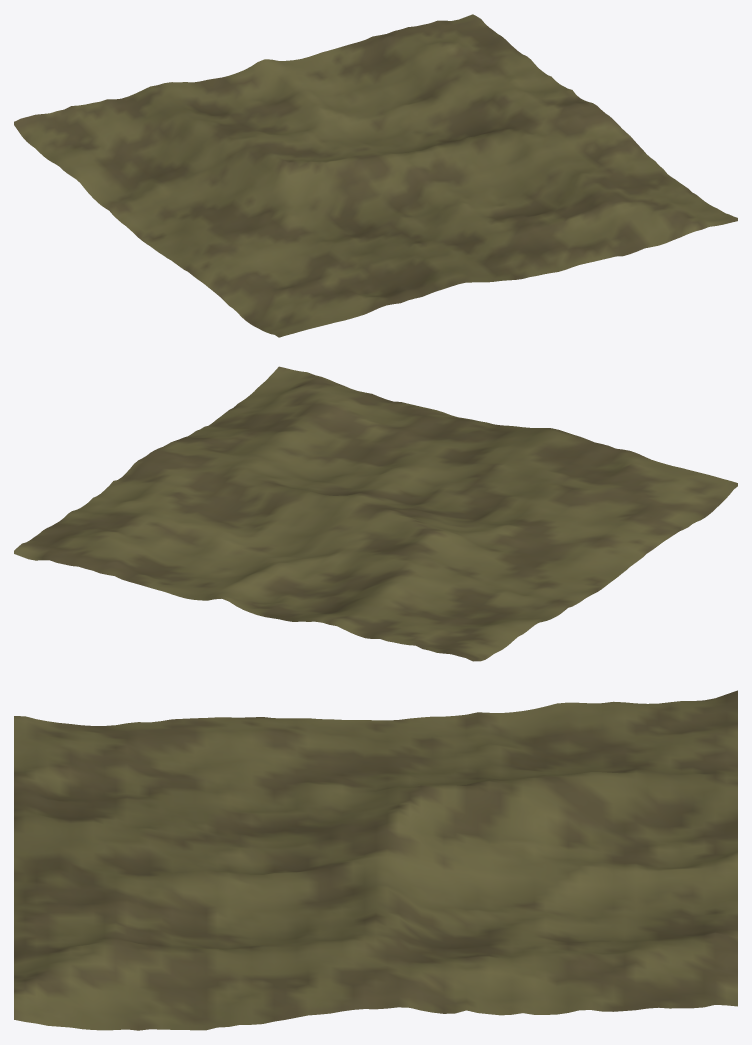
Rendered from land_f_02_02.glb.
3 views of the same model, one above another, from view 1: azimuth 30°, elevation 25°; view 2: azimuth 150°, elevation 25°; view 3: azimuth 270°, elevation 25° (orthographic). The views are drawn at different scales.
Visible parts, largest first — view 1: land_f_02_02; view 2: land_f_02_02; view 3: land_f_02_02.
Part boxes in pixels (box(x1,y1,x2,y2)): land_f_02_02: box(14, 14, 737, 337); land_f_02_02: box(14, 366, 737, 661); land_f_02_02: box(14, 690, 737, 1030).
Size of the model in its own units: 3840 by 274 by 3840.
